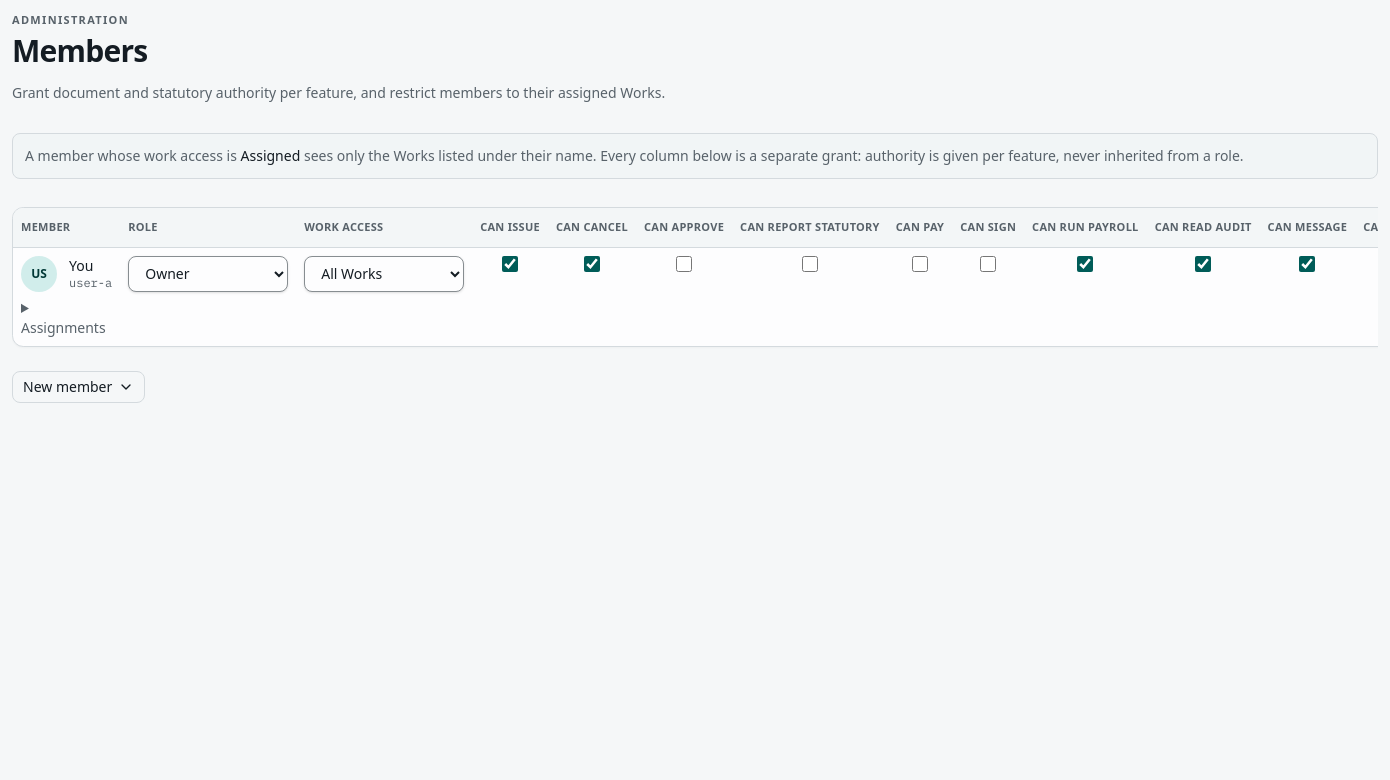
Test: Members › adds a member and announces the outcome
Click the button "New member" at (79, 386), box 12,370 -> 145,402
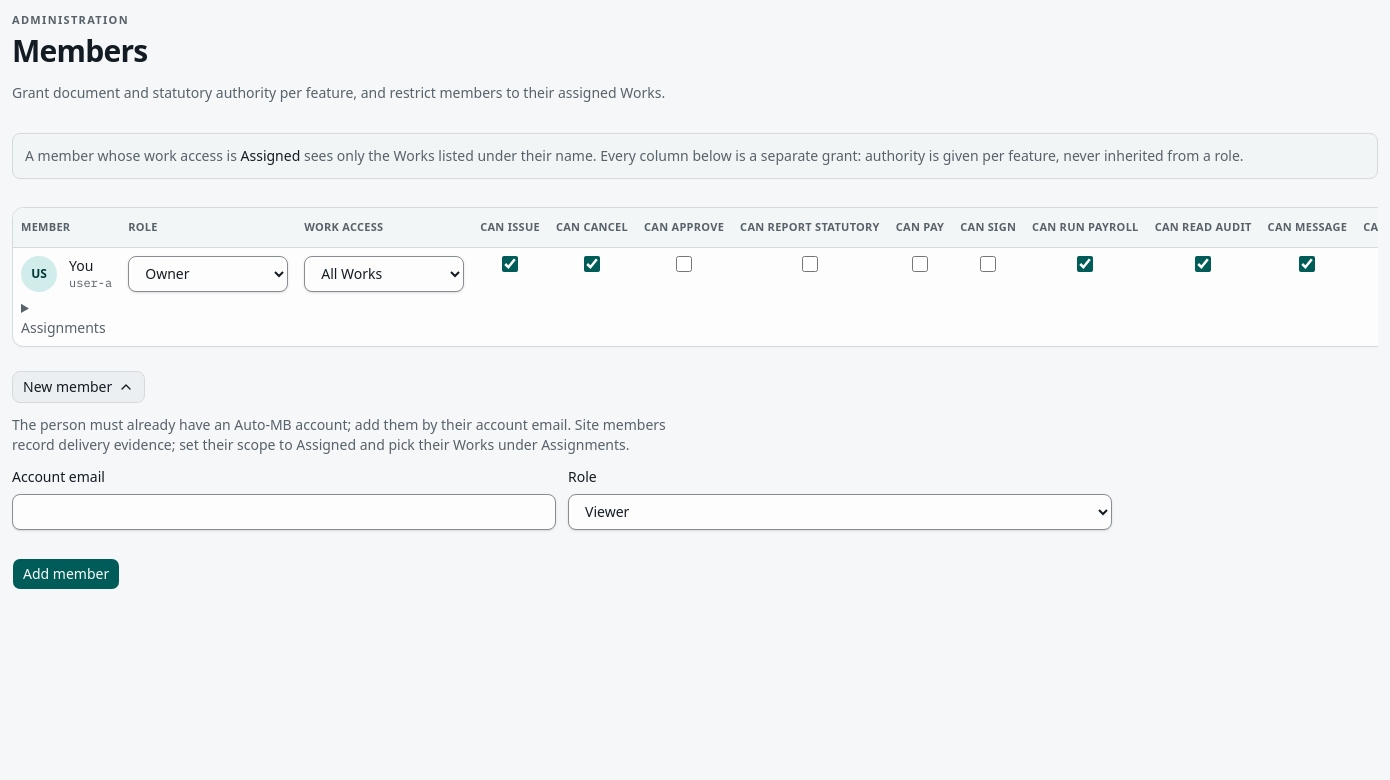
Type "viewer@example.test" into the field labelled "Account email" at (284, 512), box 12,494 -> 556,530
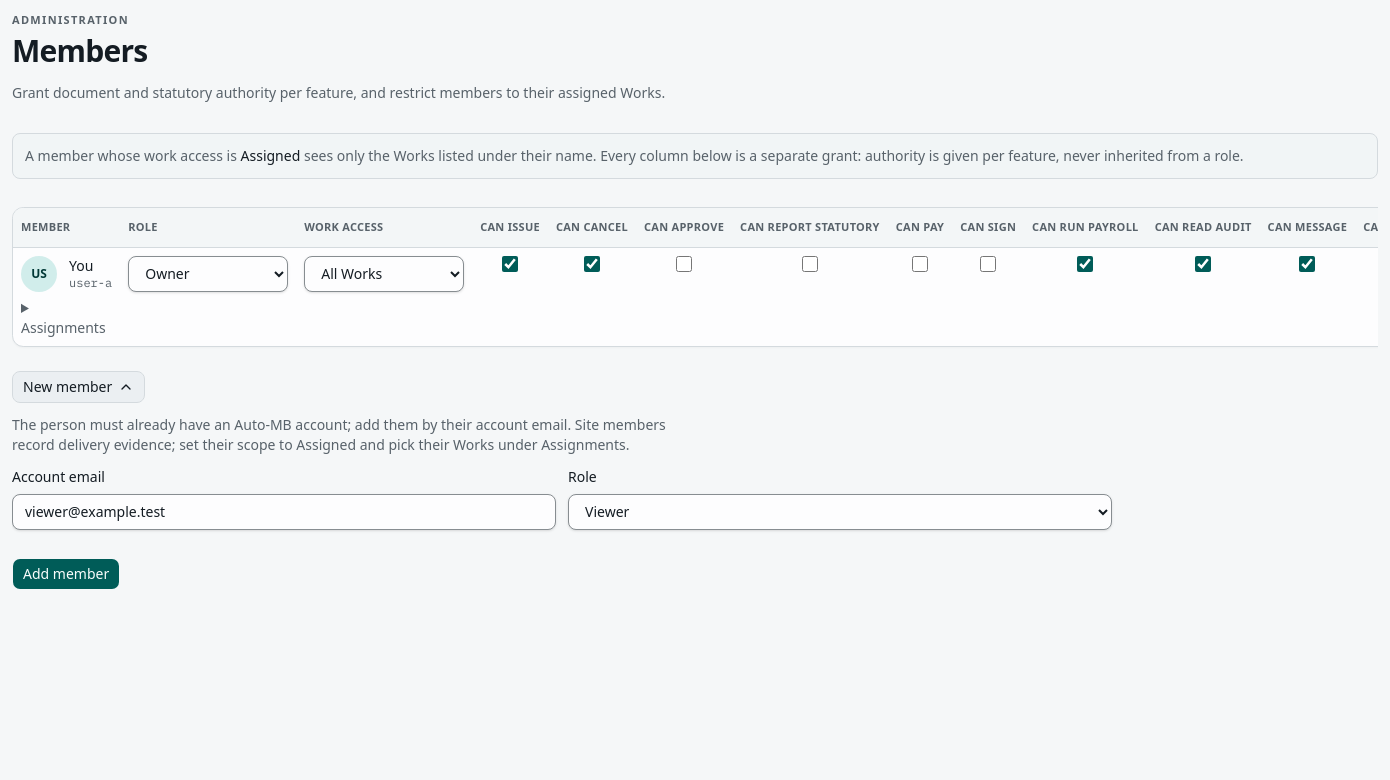
Click the button "Add member" at (66, 574), box 12,558 -> 120,590
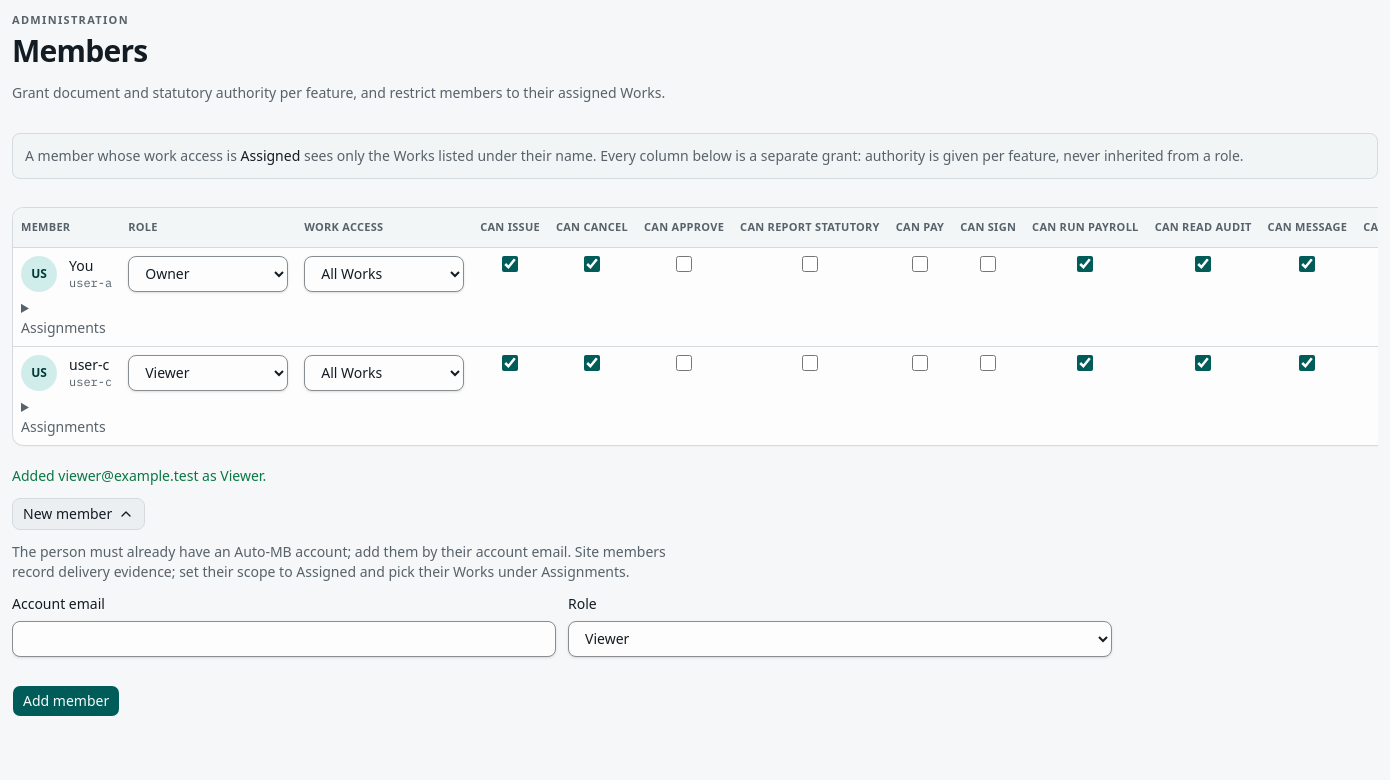
Check: the message shows "viewer@example.test", box 12,466 -> 266,484
Check: the number of rows is 3, box 13,208 -> 1378,248; 13,248 -> 1378,346; 13,346 -> 1378,444
